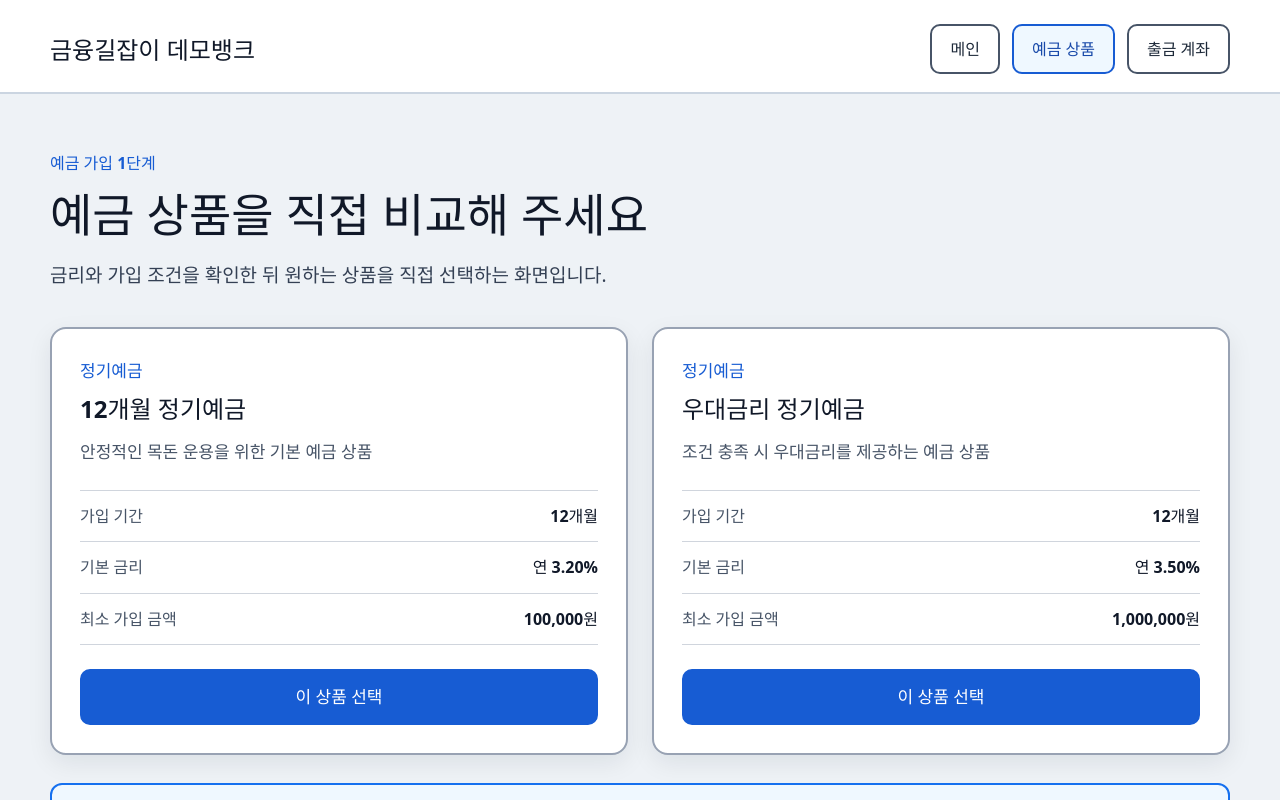
Test: Demo Bank public Overlay targets › 상품 선택 버튼에 고유 공개 key와 기존 접근성 계약을 함께 유지한다
The image size is (1280, 800).
Expected: the button with aria-label "우대금리 정기예금 선택" reads "이 상품 선택", [682,669,1200,725]
Click the button with aria-label "12개월 정기예금 선택": (339, 697) [80,669,598,725]
(page scrolled)
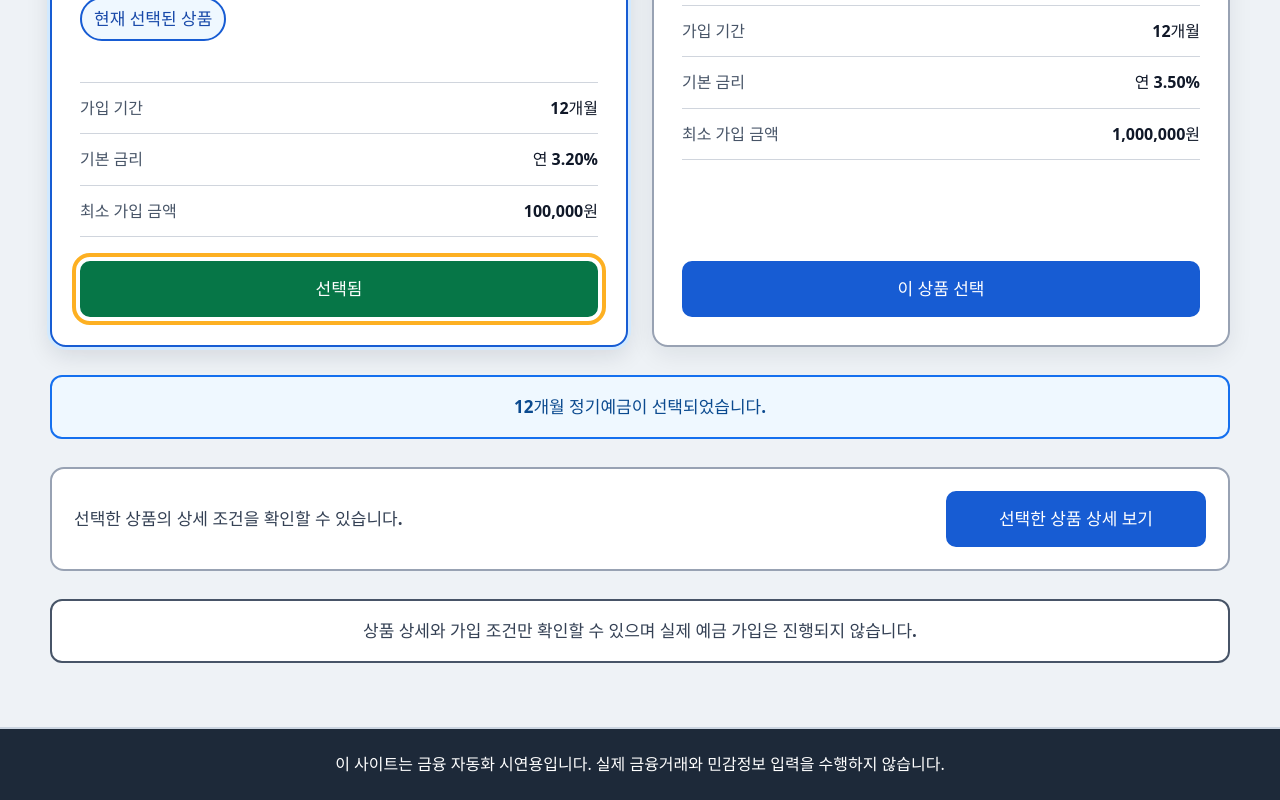
Expected: the button "선택한 상품 상세 보기" is enabled, [946,491,1206,547]
